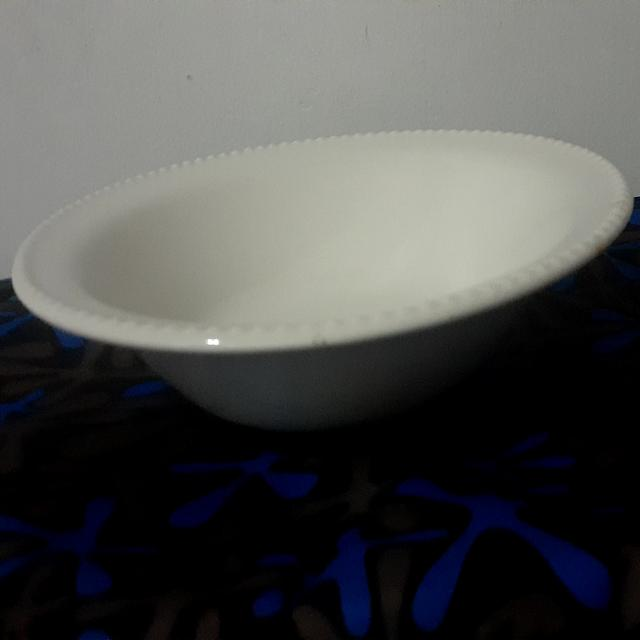non-organic waste: (6, 128, 639, 404)
